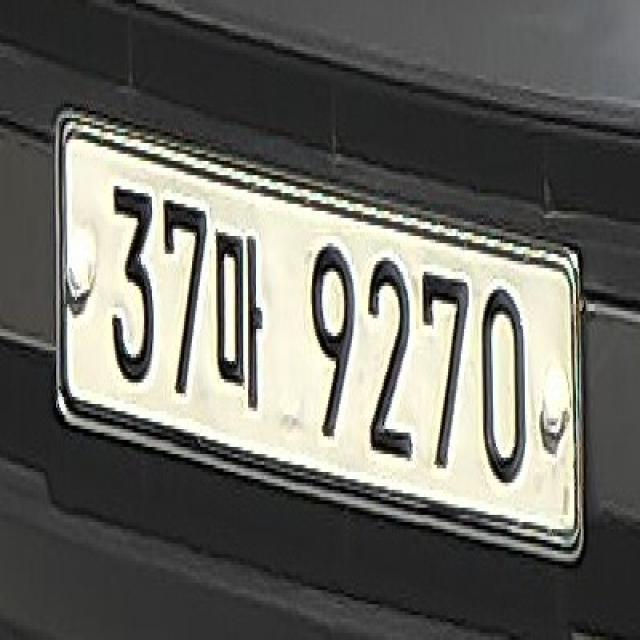plat: (52, 104, 587, 564)
